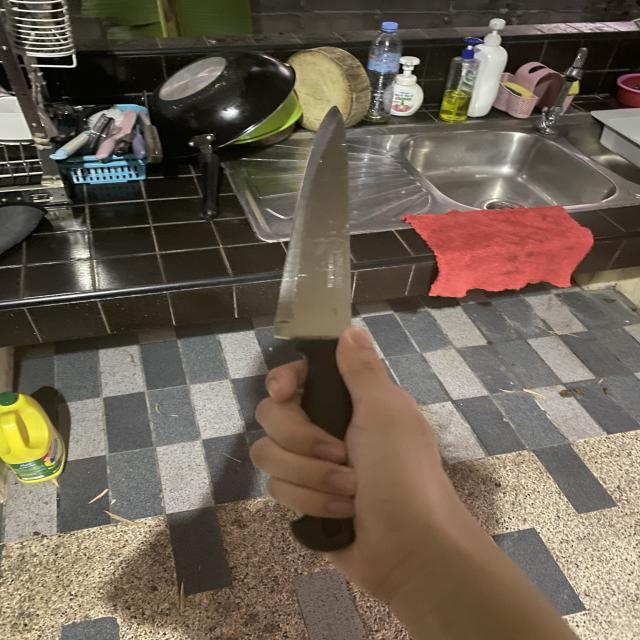faca: (270, 106, 444, 570)
